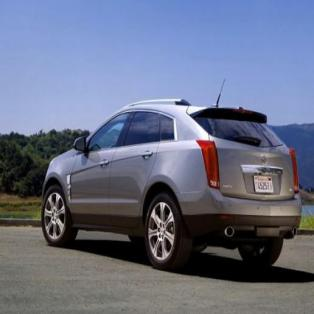Auto: (41, 98, 302, 271)
